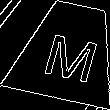M_N: (36, 22, 100, 81)
